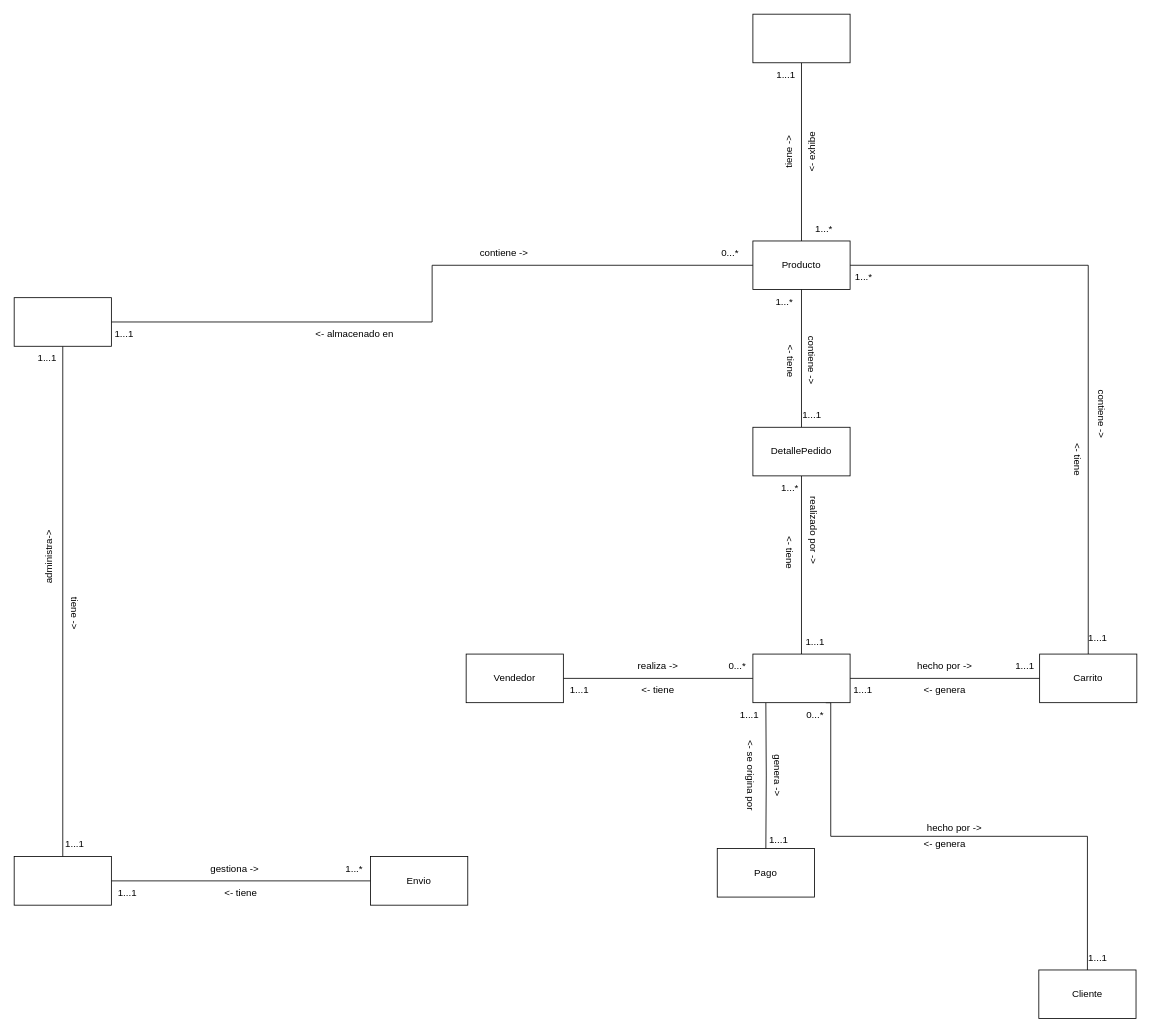
Image size: 1151x1033. Some labels were removed from this diagram. Each missing label, with the box of its shape:
Administrador: (13, 856, 111, 905)
Almacen: (752, 13, 850, 63)
Bodega: (13, 297, 111, 346)
Pedido: (752, 653, 850, 703)
